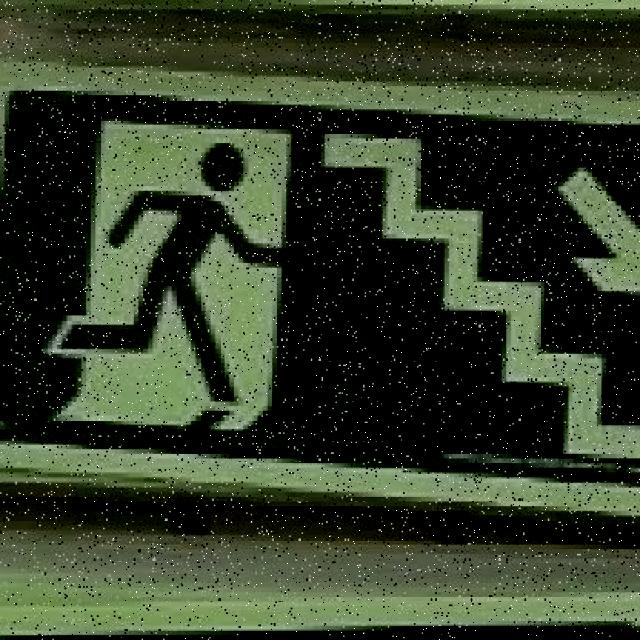emergency_exit: (1, 3, 639, 634), (1, 82, 639, 520)
